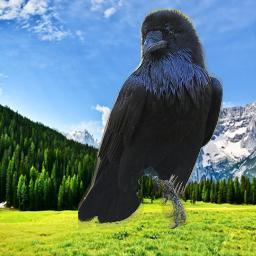Crow: (78, 8, 223, 229)
